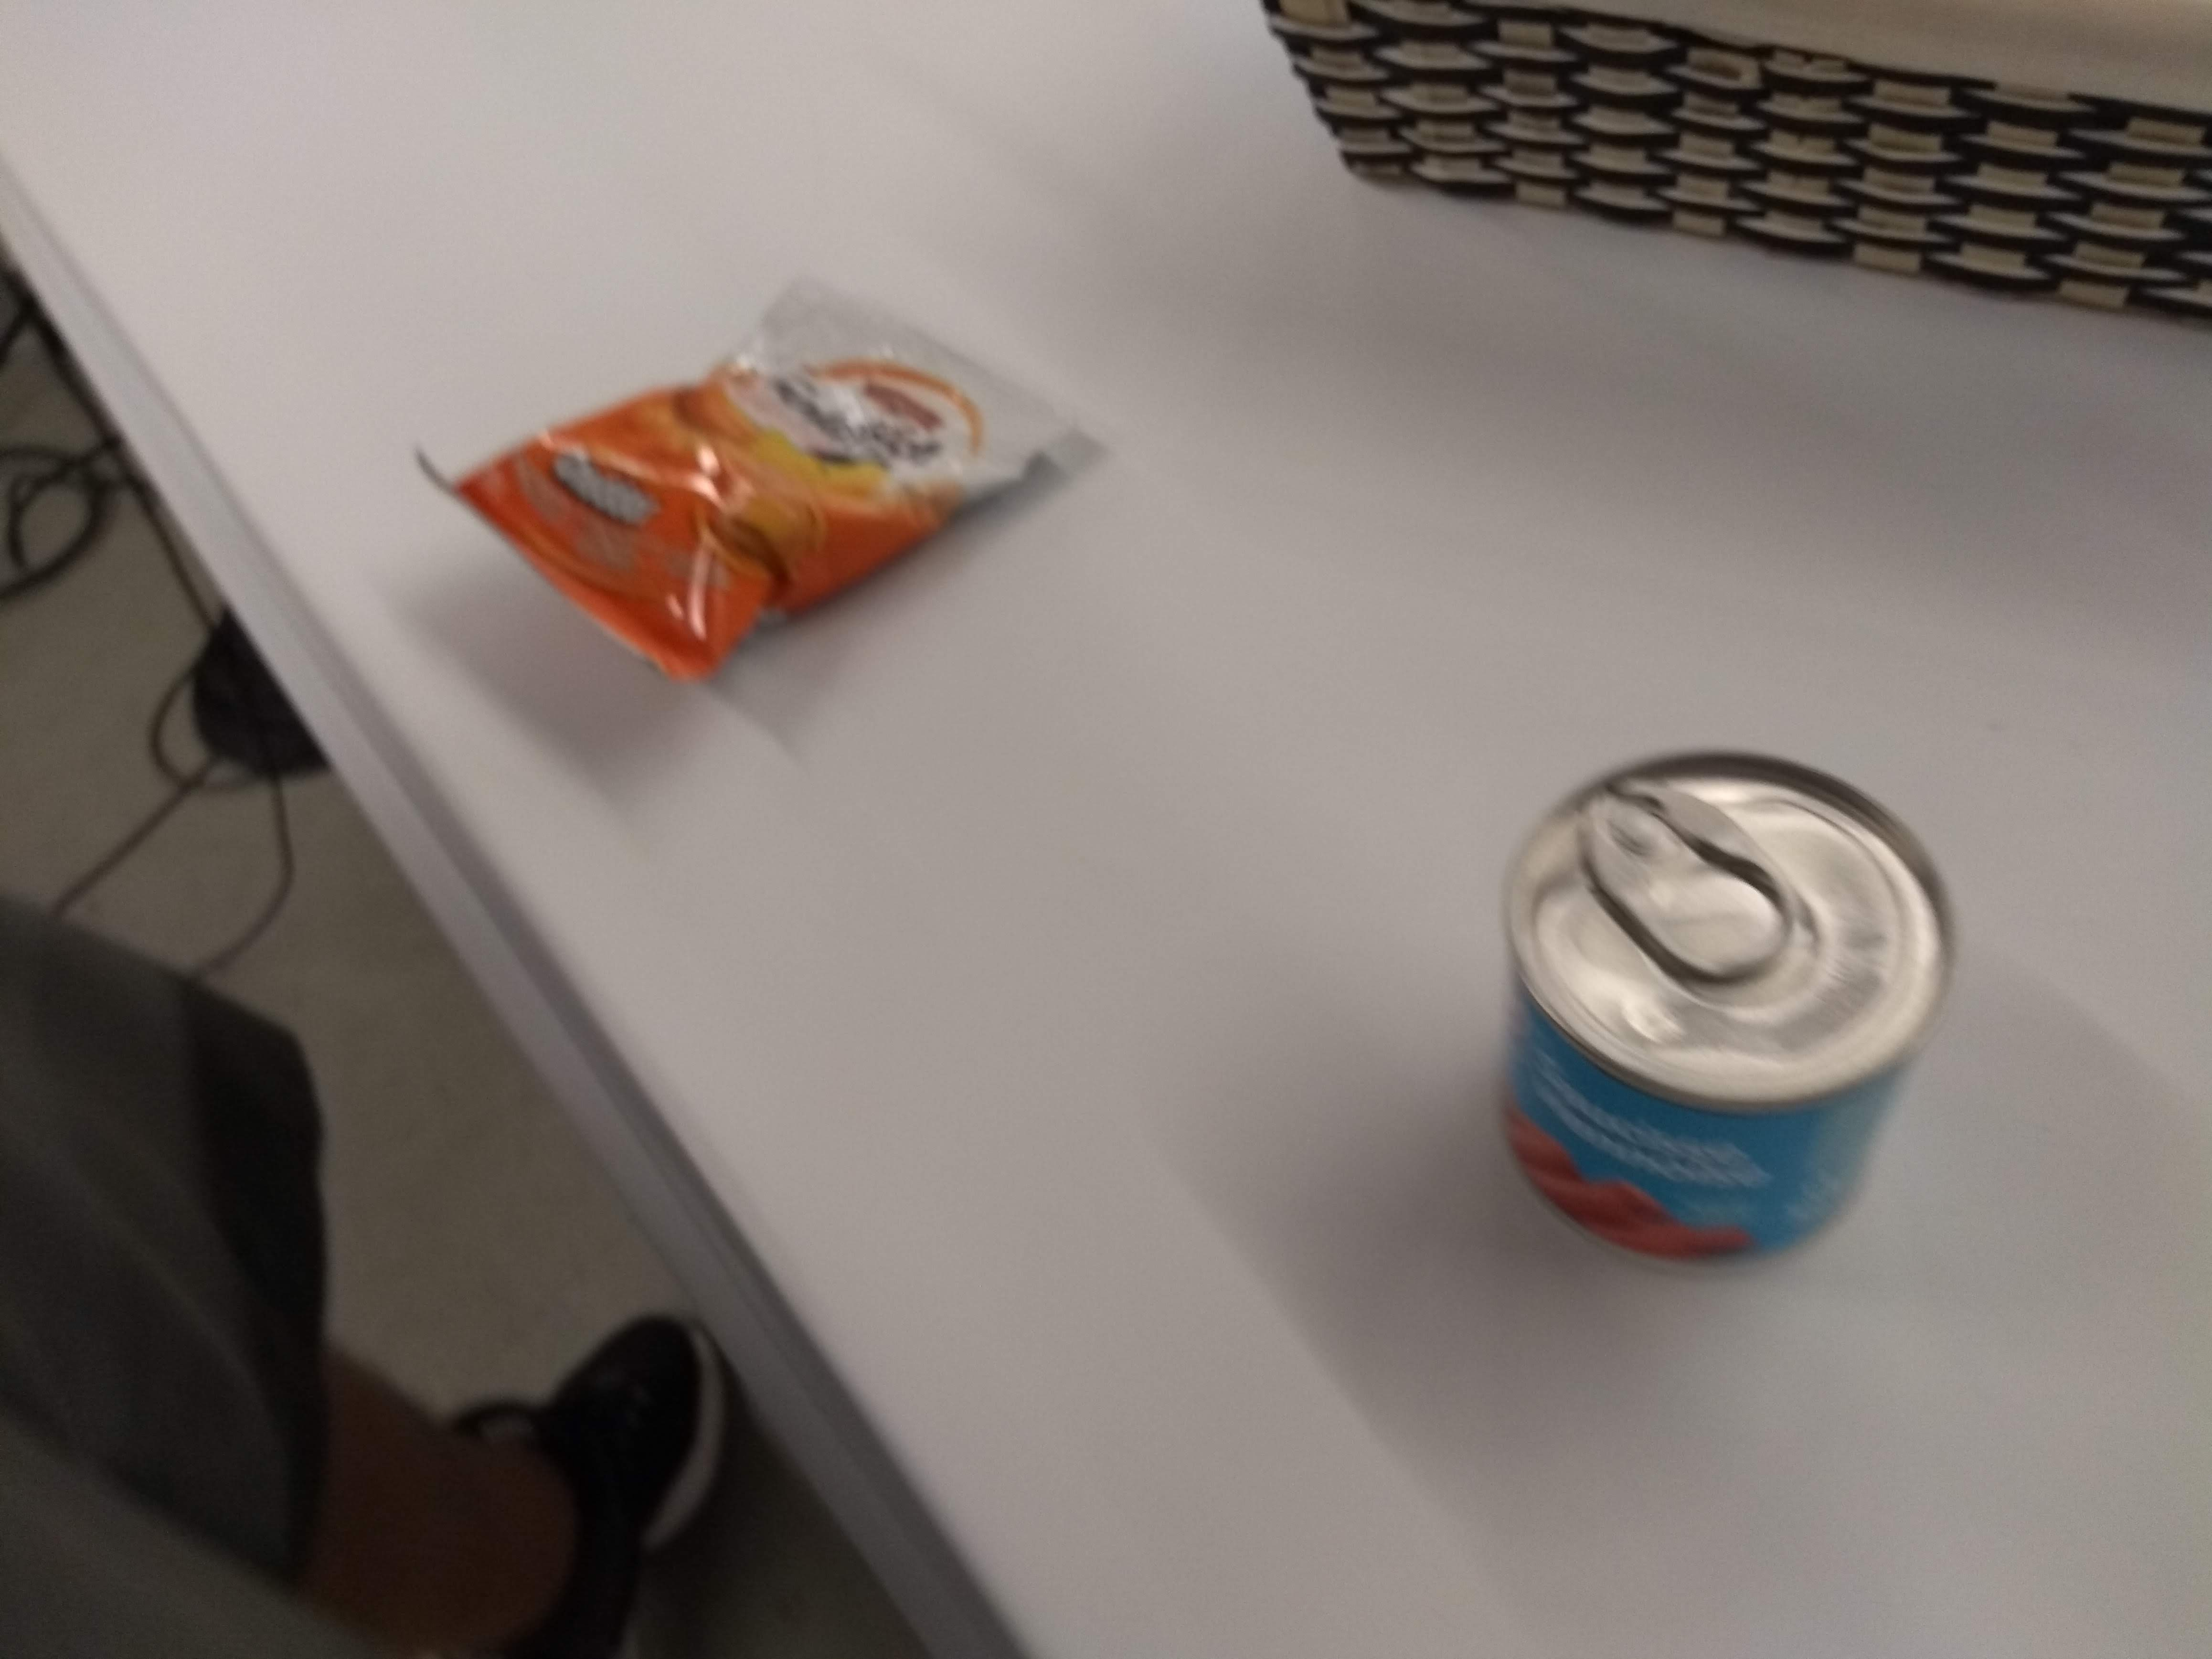crackers: (395, 249, 1115, 695)
sausages: (1484, 730, 1952, 1277)
